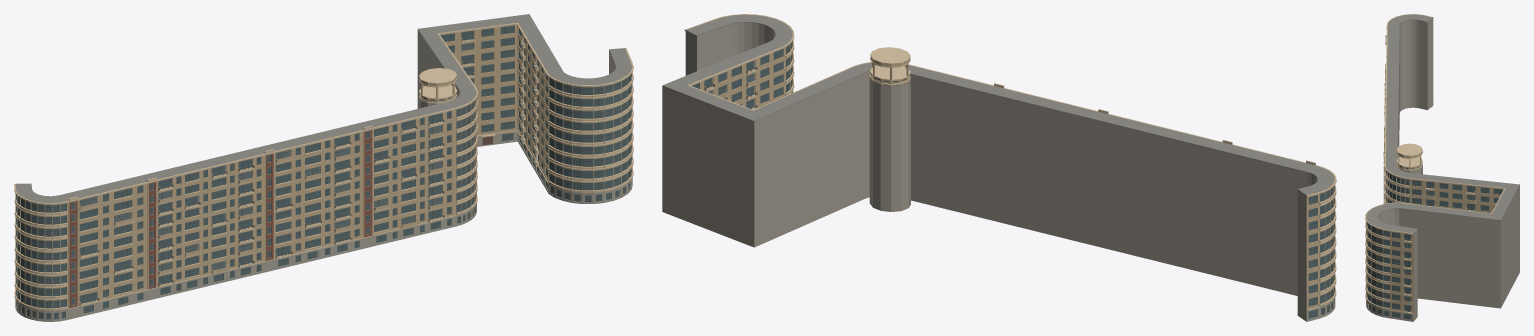
File: hongkou-embankment-building-riverfront-lod.glb
The picture shows the model from 3 angles, left to right: view 1: azimuth 30°, elevation 25°; view 2: azimuth 150°, elevation 25°; view 3: azimuth 270°, elevation 25°; orthographic projection. The views are drawn at different scales.
Parts seen in each view (by area): view 1: 河滨大楼临苏州河立面; view 2: 河滨大楼临苏州河立面; view 3: 河滨大楼临苏州河立面.
Boxes of the visible parts, <box> form: 河滨大楼临苏州河立面: <box>14,14,633,321</box>; 河滨大楼临苏州河立面: <box>662,14,1336,321</box>; 河滨大楼临苏州河立面: <box>1365,14,1519,321</box>.
Bounding box in the file's own units: 170 × 37.33 × 50.56.
